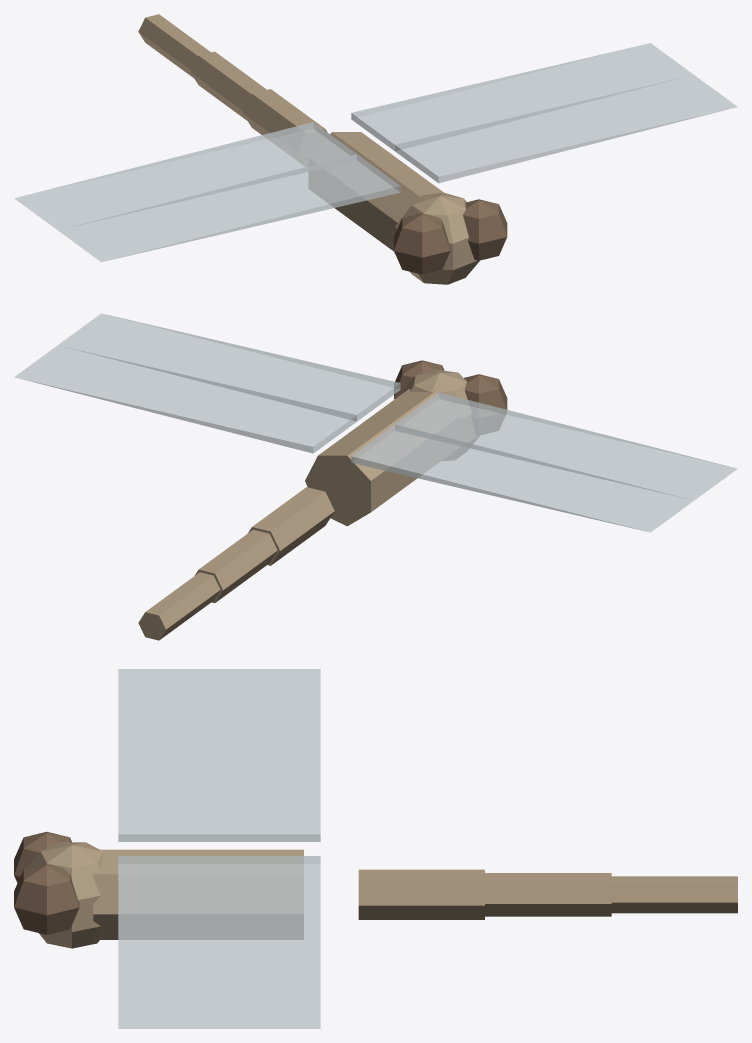
File: critter_dragonfly.glb
The picture shows the model from 3 angles, top to bottom: view 1: azimuth 30°, elevation 25°; view 2: azimuth 150°, elevation 25°; view 3: azimuth 270°, elevation 25°; orthographic projection. The views are drawn at different scales.
Parts seen in each view (by area): view 1: Dragonfly_Wing0, Dragonfly_Wing2, Dragonfly_Wing3, Dragonfly_Wing1, Dragonfly_Thorax, Dragonfly_Segment0, Dragonfly_Head, Dragonfly_EyeL, Dragonfly_Segment1, Dragonfly_EyeR, Dragonfly_Segment2; view 2: Dragonfly_Wing3, Dragonfly_Wing1, Dragonfly_Wing2, Dragonfly_Wing0, Dragonfly_Thorax, Dragonfly_Segment0, Dragonfly_Segment2, Dragonfly_Segment1, Dragonfly_Head, Dragonfly_EyeL, Dragonfly_EyeR; view 3: Dragonfly_Thorax, Dragonfly_Wing0, Dragonfly_Wing1, Dragonfly_Wing2, Dragonfly_Wing3, Dragonfly_Segment0, Dragonfly_Segment1, Dragonfly_Segment2, Dragonfly_Head, Dragonfly_EyeR, Dragonfly_EyeL.
Boxes of the visible parts, <box> form: Dragonfly_Wing0: <box>58,154,400,262</box>; Dragonfly_Wing2: <box>395,75,737,183</box>; Dragonfly_Wing3: <box>351,43,693,150</box>; Dragonfly_Wing1: <box>14,122,356,230</box>; Dragonfly_Thorax: <box>309,132,443,251</box>; Dragonfly_Segment0: <box>242,89,328,166</box>; Dragonfly_Head: <box>394,192,479,284</box>; Dragonfly_EyeL: <box>394,213,450,274</box>; Dragonfly_Segment1: <box>190,51,266,120</box>; Dragonfly_EyeR: <box>463,199,507,260</box>; Dragonfly_Segment2: <box>138,14,210,77</box>; Dragonfly_Wing3: <box>14,345,356,453</box>; Dragonfly_Wing1: <box>351,424,693,532</box>; Dragonfly_Wing2: <box>58,313,400,421</box>; Dragonfly_Wing0: <box>395,392,737,500</box>; Dragonfly_Thorax: <box>305,389,459,526</box>; Dragonfly_Segment0: <box>248,487,334,565</box>; Dragonfly_Segment2: <box>138,572,220,640</box>; Dragonfly_Segment1: <box>194,529,277,603</box>; Dragonfly_Head: <box>401,369,478,460</box>; Dragonfly_EyeL: <box>464,374,507,434</box>; Dragonfly_EyeR: <box>394,360,444,399</box>; Dragonfly_Thorax: <box>93,849,303,939</box>; Dragonfly_Wing0: <box>118,669,219,841</box>; Dragonfly_Wing1: <box>219,669,320,841</box>; Dragonfly_Wing2: <box>118,856,219,1028</box>; Dragonfly_Wing3: <box>219,856,320,1028</box>; Dragonfly_Segment0: <box>358,869,484,919</box>; Dragonfly_Segment1: <box>485,873,611,916</box>; Dragonfly_Segment2: <box>611,876,737,913</box>; Dragonfly_Head: <box>26,842,103,948</box>; Dragonfly_EyeR: <box>14,864,79,934</box>; Dragonfly_EyeL: <box>14,831,71,882</box>.
Size of the model in its own units: 0.202 by 0.026 by 0.1718.
